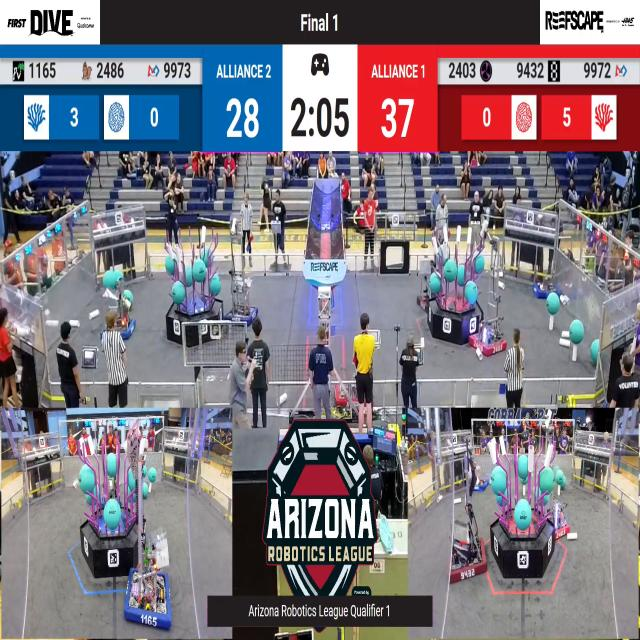scoreboard: (0, 47, 640, 150)
